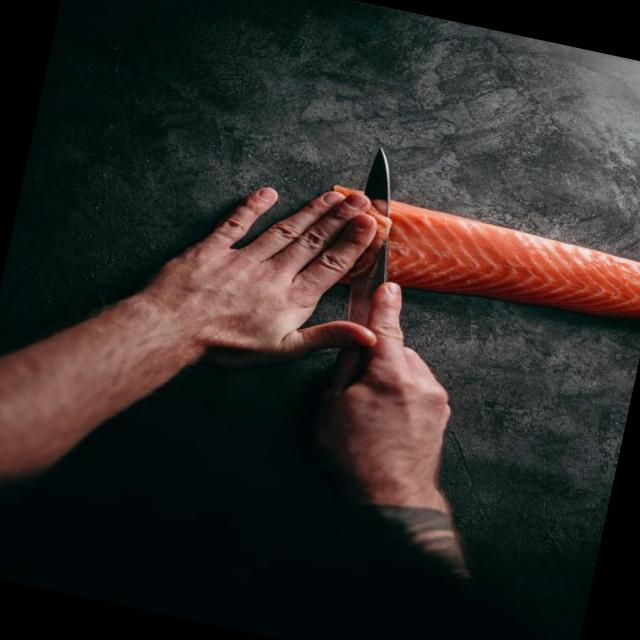Knife: (340, 148, 392, 328), (335, 346, 370, 374)
